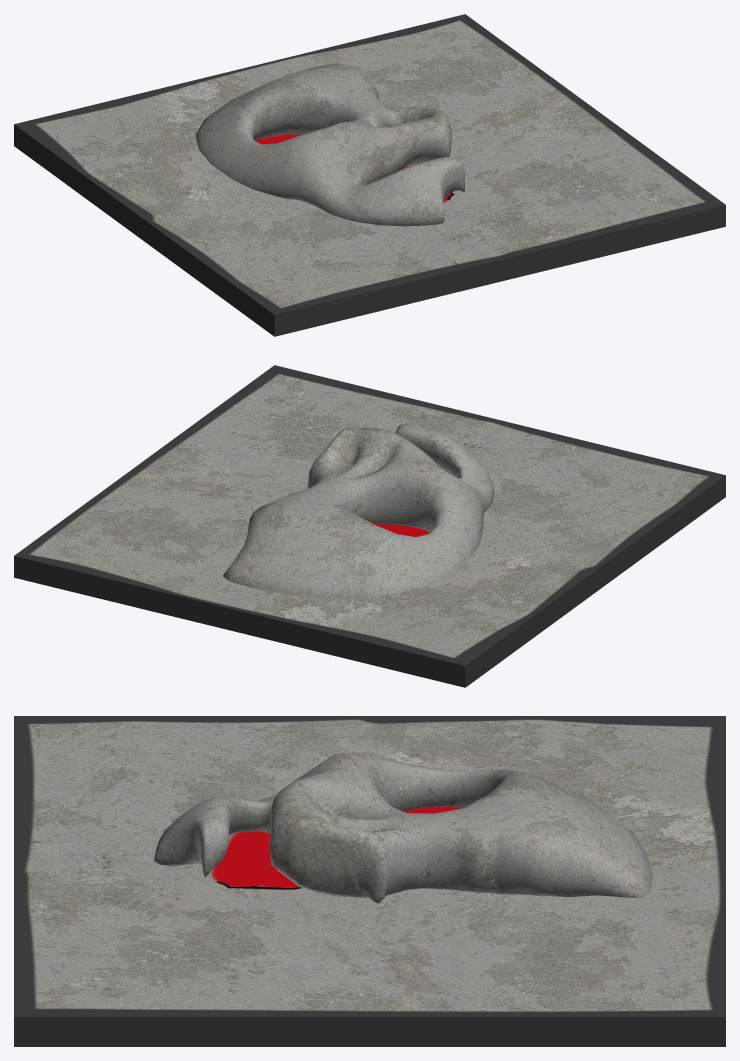
The model's file is Piso_Cuarto_Secreto.glb.
3 views of the same model, one above another, from view 1: azimuth 30°, elevation 25°; view 2: azimuth 150°, elevation 25°; view 3: azimuth 270°, elevation 25° (orthographic). The views are drawn at different scales.
Visible parts, largest first — view 1: Cuarto_Secretp_Piso_Placa; view 2: Cuarto_Secretp_Piso_Placa; view 3: Cuarto_Secretp_Piso_Placa.
Part boxes in pixels (left/top/right/bottom): Cuarto_Secretp_Piso_Placa: left=14, top=14, right=725, bottom=336; Cuarto_Secretp_Piso_Placa: left=14, top=365, right=725, bottom=687; Cuarto_Secretp_Piso_Placa: left=14, top=716, right=725, bottom=1046.
Bounding box in the file's own units: 2 × 0.3419 × 2.
2 materials, 2 textured.
